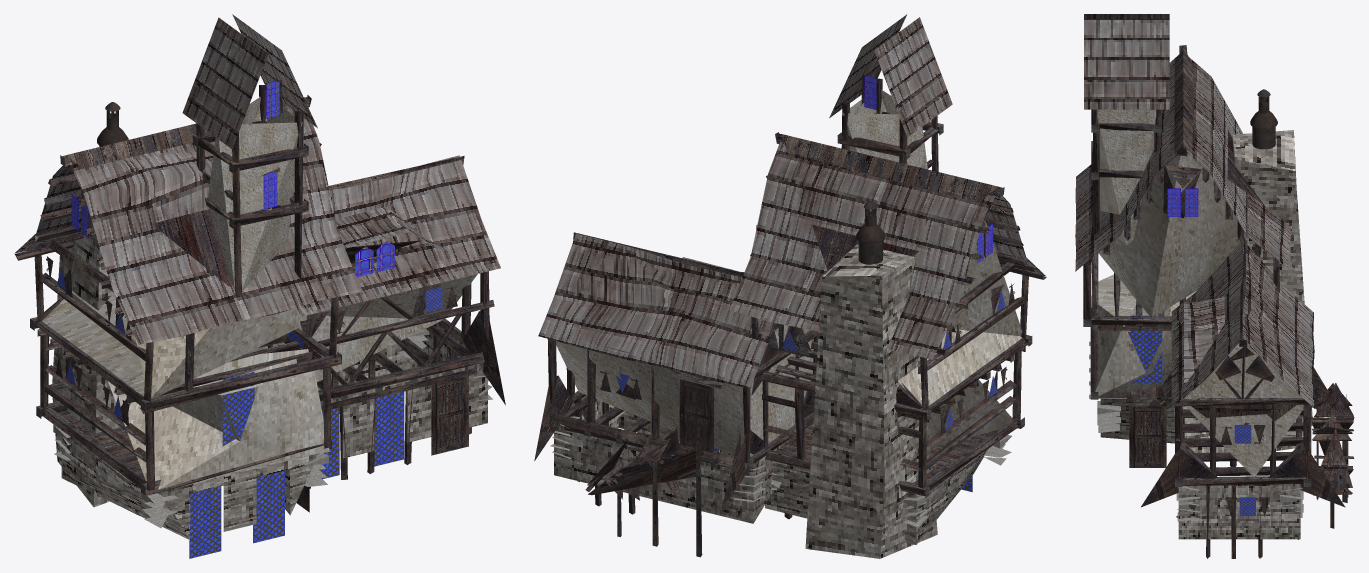
The model's file is oga_house_3.glb.
The picture shows the model from 3 angles, left to right: view 1: azimuth 30°, elevation 25°; view 2: azimuth 150°, elevation 25°; view 3: azimuth 270°, elevation 25°; orthographic projection. The views are drawn at different scales.
Visible parts, largest first — view 1: oga_house_3; view 2: oga_house_3; view 3: oga_house_3.
Part boxes in pixels (x1,y1,x2,y2): oga_house_3: (14, 14, 505, 558); oga_house_3: (534, 14, 1046, 558); oga_house_3: (1075, 14, 1354, 558).
Size of the model in its own units: 13.17 by 14.65 by 8.48.
10 materials, 10 textured.
